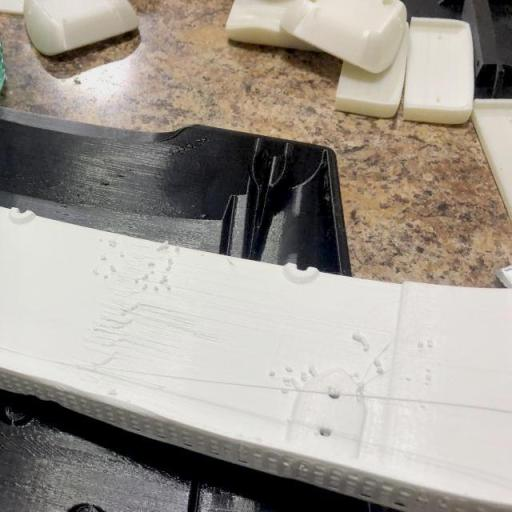blobs: (350, 332, 368, 343), (372, 355, 385, 367), (153, 242, 168, 252), (298, 370, 309, 382), (107, 264, 121, 273), (306, 364, 318, 374), (106, 240, 120, 248), (425, 338, 436, 348), (280, 386, 291, 396), (161, 264, 174, 272), (283, 364, 294, 373), (146, 260, 158, 268), (268, 368, 278, 377), (280, 376, 291, 384), (421, 374, 432, 382), (362, 344, 373, 352), (159, 276, 170, 284), (165, 258, 175, 266), (139, 284, 149, 292), (164, 283, 172, 293), (100, 252, 108, 262), (90, 268, 100, 276), (376, 367, 385, 375), (424, 366, 433, 374), (416, 340, 425, 348), (152, 284, 161, 292), (140, 274, 150, 280), (404, 374, 412, 381), (172, 246, 181, 252), (118, 251, 125, 258), (353, 370, 361, 376), (102, 274, 108, 280), (148, 270, 156, 274), (98, 237, 104, 242)
